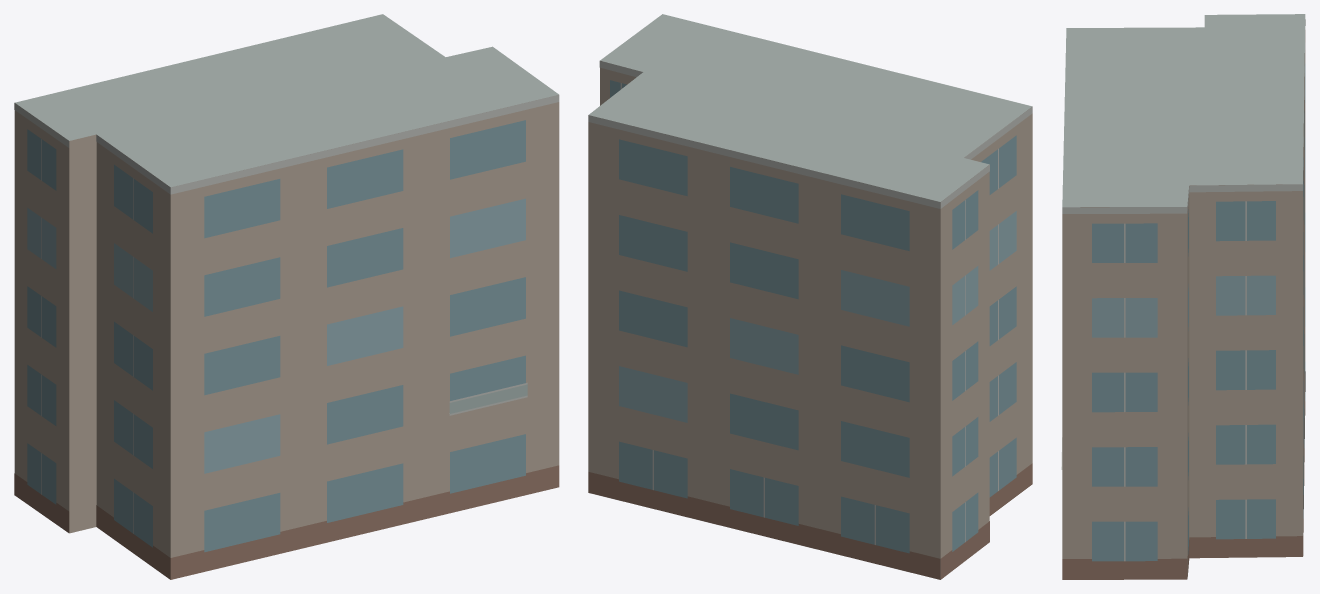
Rendered from survey-upis-32680386.glb.
3 renders of one model, left to right at view 1: azimuth 30°, elevation 25°; view 2: azimuth 150°, elevation 25°; view 3: azimuth 270°, elevation 25°, orthographic. The views are drawn at different scales.
Visible parts, largest first — view 1: survey-upis-32680386.tmp; view 2: survey-upis-32680386.tmp; view 3: survey-upis-32680386.tmp.
Part boxes in pixels (x1,y1,x2,y2): survey-upis-32680386.tmp: (14, 14, 559, 579); survey-upis-32680386.tmp: (588, 14, 1032, 579); survey-upis-32680386.tmp: (1061, 14, 1305, 579).
Bounding box in the file's own units: 14.68 × 13.2 × 7.84.
